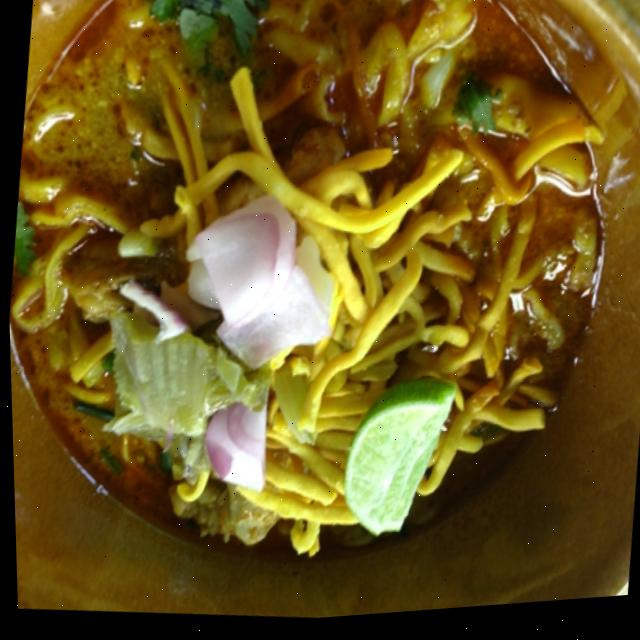面条主食: (0, 0, 639, 609)
